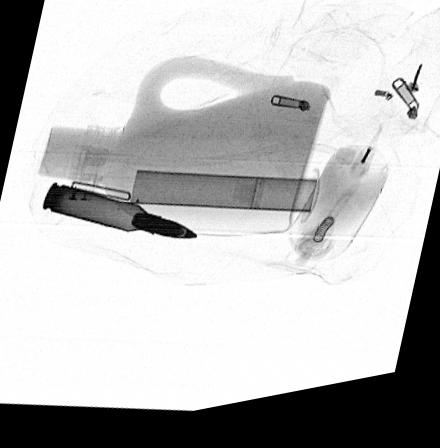Bullet: (41, 183, 200, 246)
